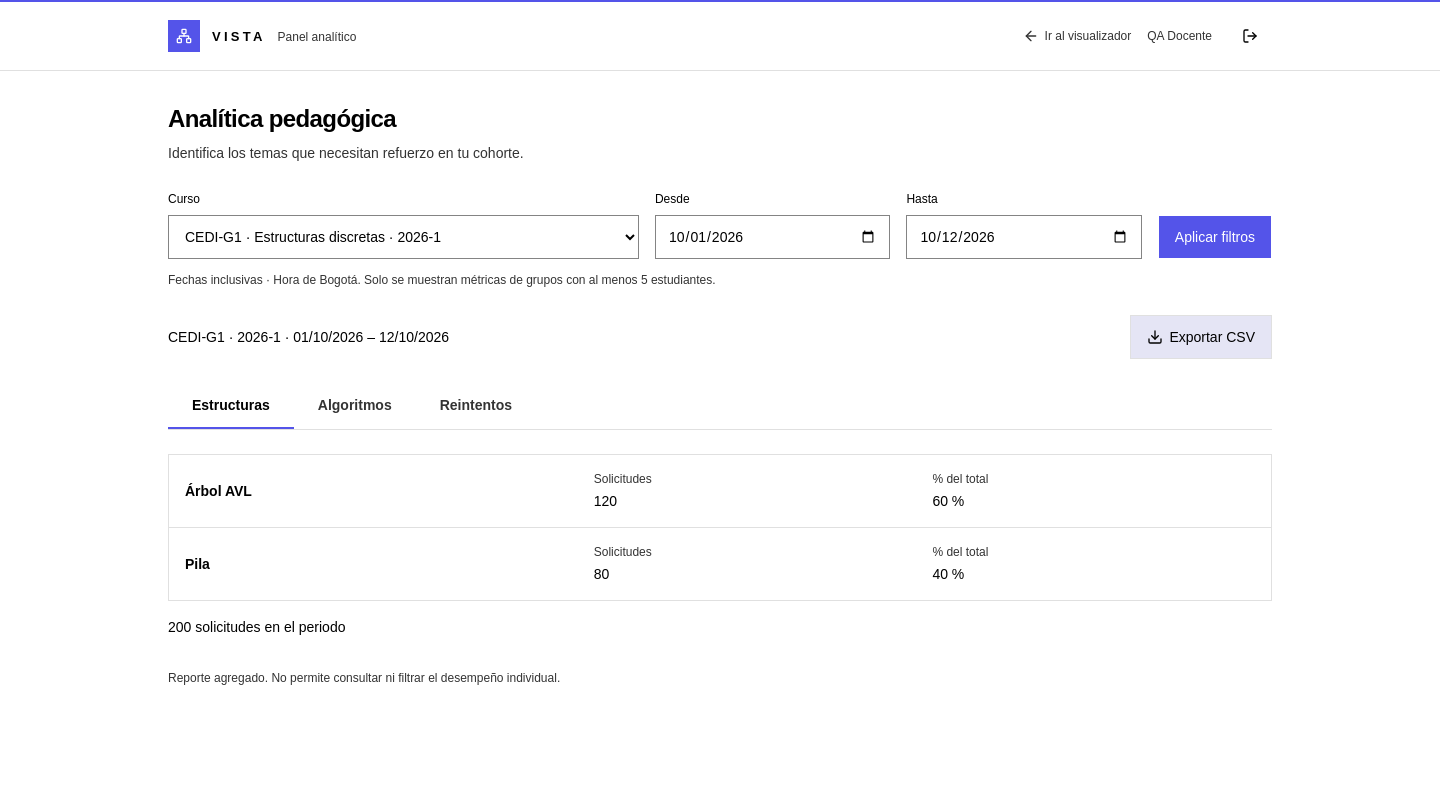
Test: cambia de vista y presenta ejecuciones y pasos completados
This screenshot has width=1440, height=800.
Click the button with test id "analytics-view-algorithms" at (355, 406), box [294,383,416,429]
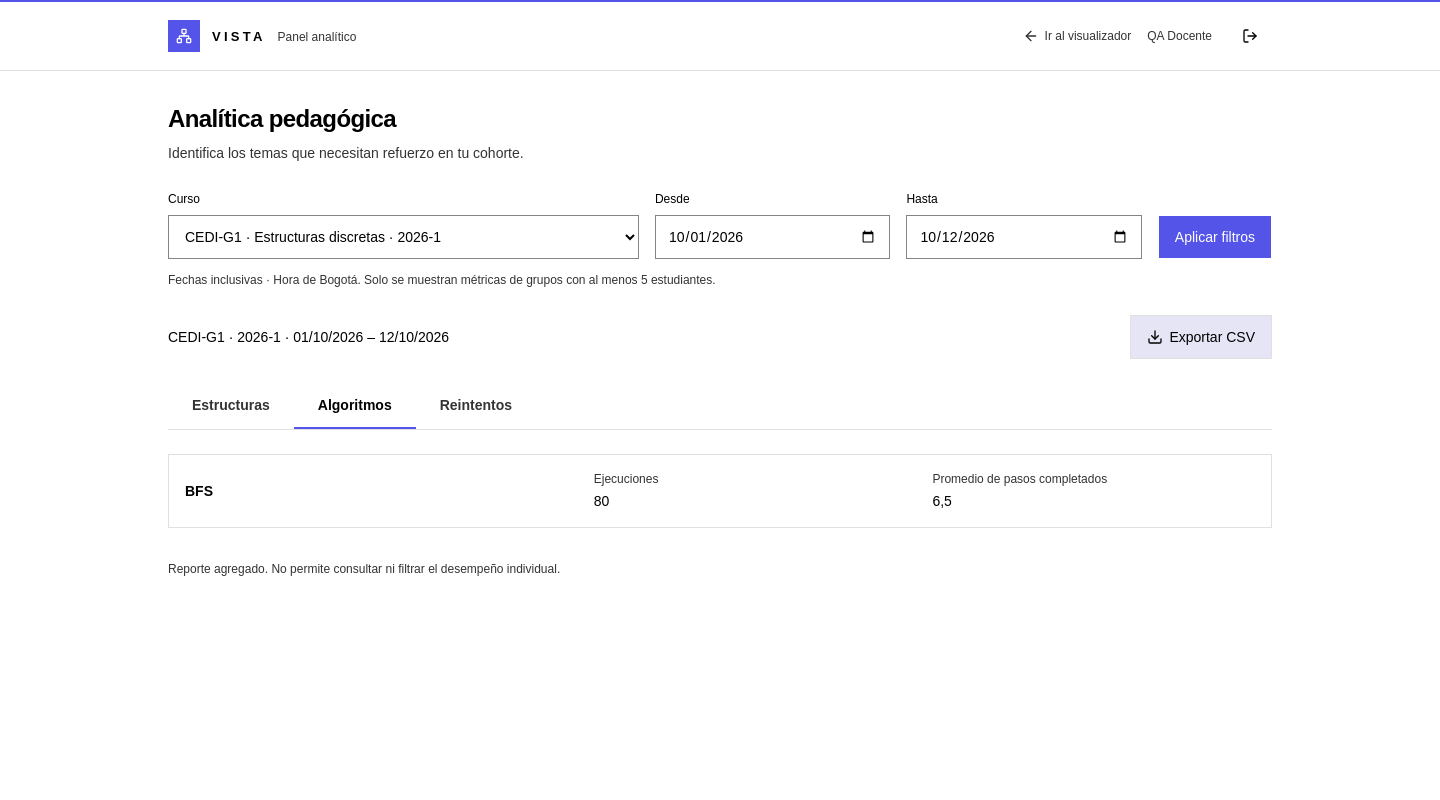
Expected: the text with test id "analytics-algorithm-row" reads "80", [594,493,610,509]
Expected: the heading with test id "analytics-algorithm-row" reads "BFS", [185,483,213,499]
Expected: the text with test id "analytics-algorithm-row" reads "6,5", [932,493,951,509]
